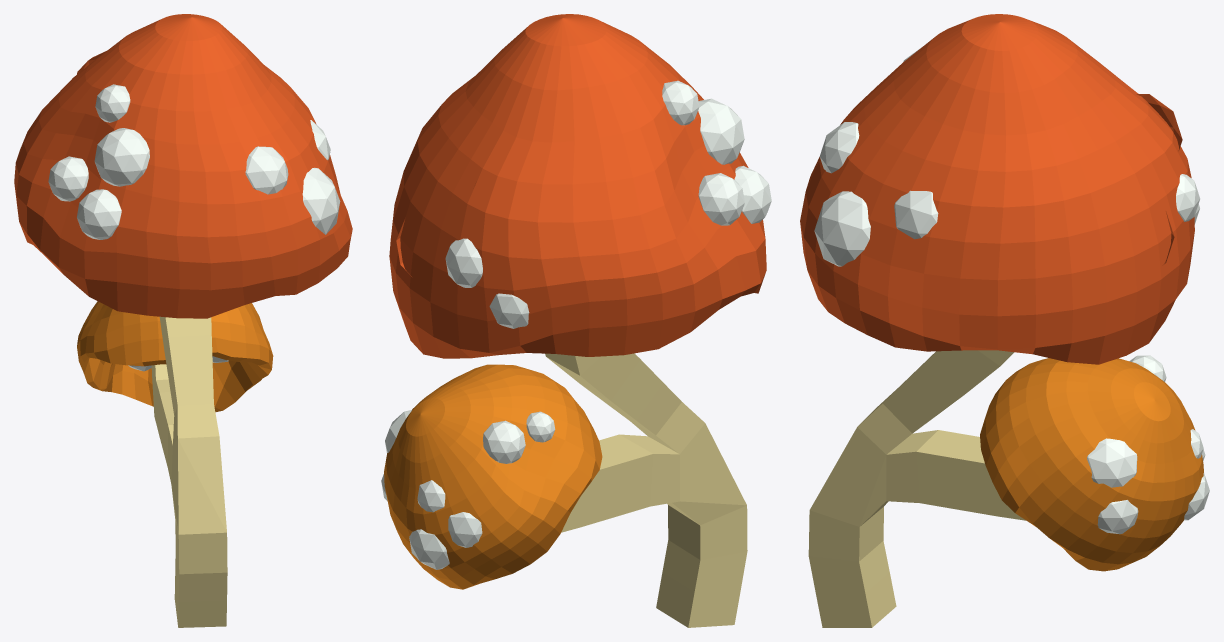
File: shroom1.glb
3 renders of one model, left to right at view 1: azimuth 30°, elevation 25°; view 2: azimuth 150°, elevation 25°; view 3: azimuth 270°, elevation 25°, orthographic. The views are drawn at different scales.
Visible parts, largest first — view 1: Bulb, Root; view 2: Bulb, Root; view 3: Bulb, Root.
Boxes of the visible parts, x1,y1,x2,y2 form: Bulb: (14,14,352,412); Root: (151,316,227,627); Bulb: (381,14,771,589); Root: (545,353,747,627); Bulb: (800,14,1209,571); Root: (808,350,1025,627).
Size of the model in its own units: 2.58 by 4.8 by 2.83.
